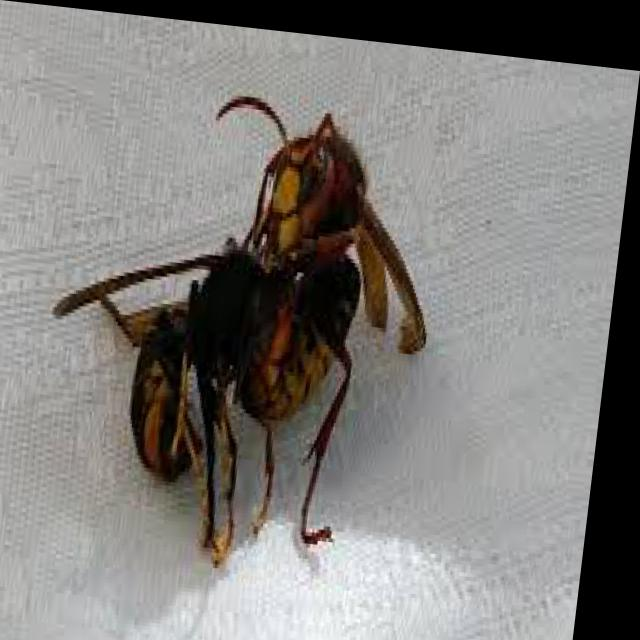Vespa Velutina: (29, 60, 463, 593)
